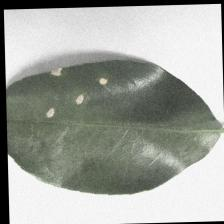canker: (15, 63, 122, 123)
